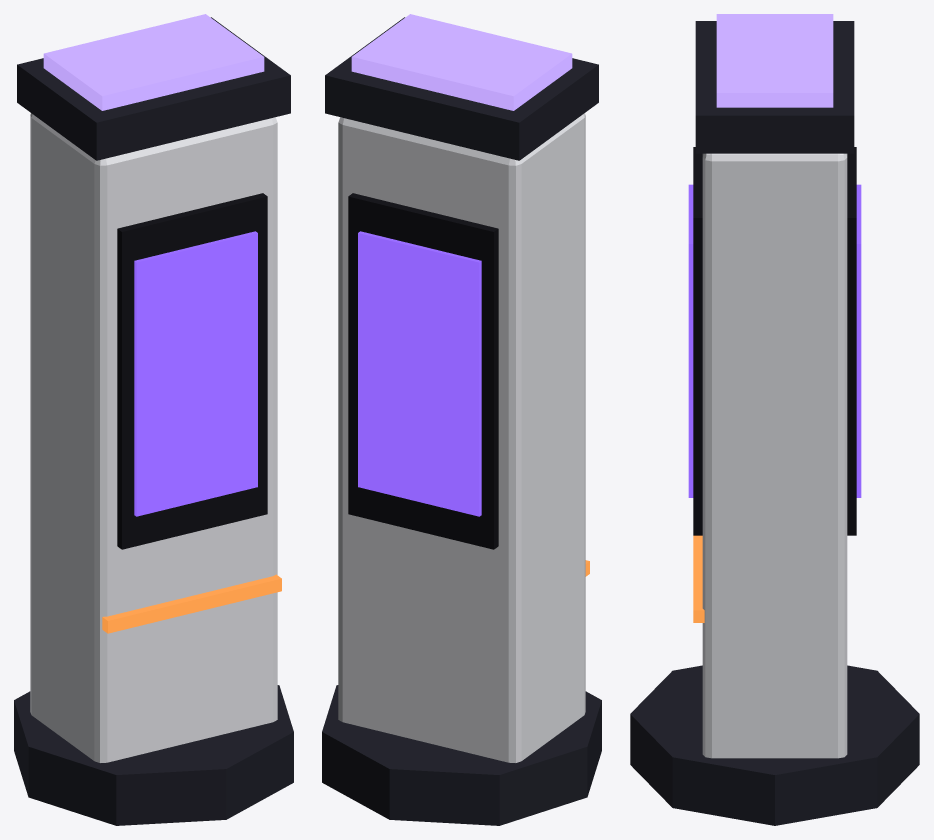
File: city_kiosk.glb
The picture shows the model from 3 angles, left to right: view 1: azimuth 30°, elevation 25°; view 2: azimuth 150°, elevation 25°; view 3: azimuth 270°, elevation 25°; orthographic projection.
Parts seen in each view (by area): view 1: city_kiosk; view 2: city_kiosk; view 3: city_kiosk.
Part boxes in pixels (<box>): city_kiosk: <box>14,14,293,825</box>; city_kiosk: <box>322,14,601,825</box>; city_kiosk: <box>630,14,919,825</box>.
Bounding box in the file's own units: 1.24 × 3.36 × 1.24.
